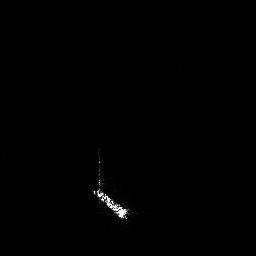ship: (89, 185, 133, 224)
